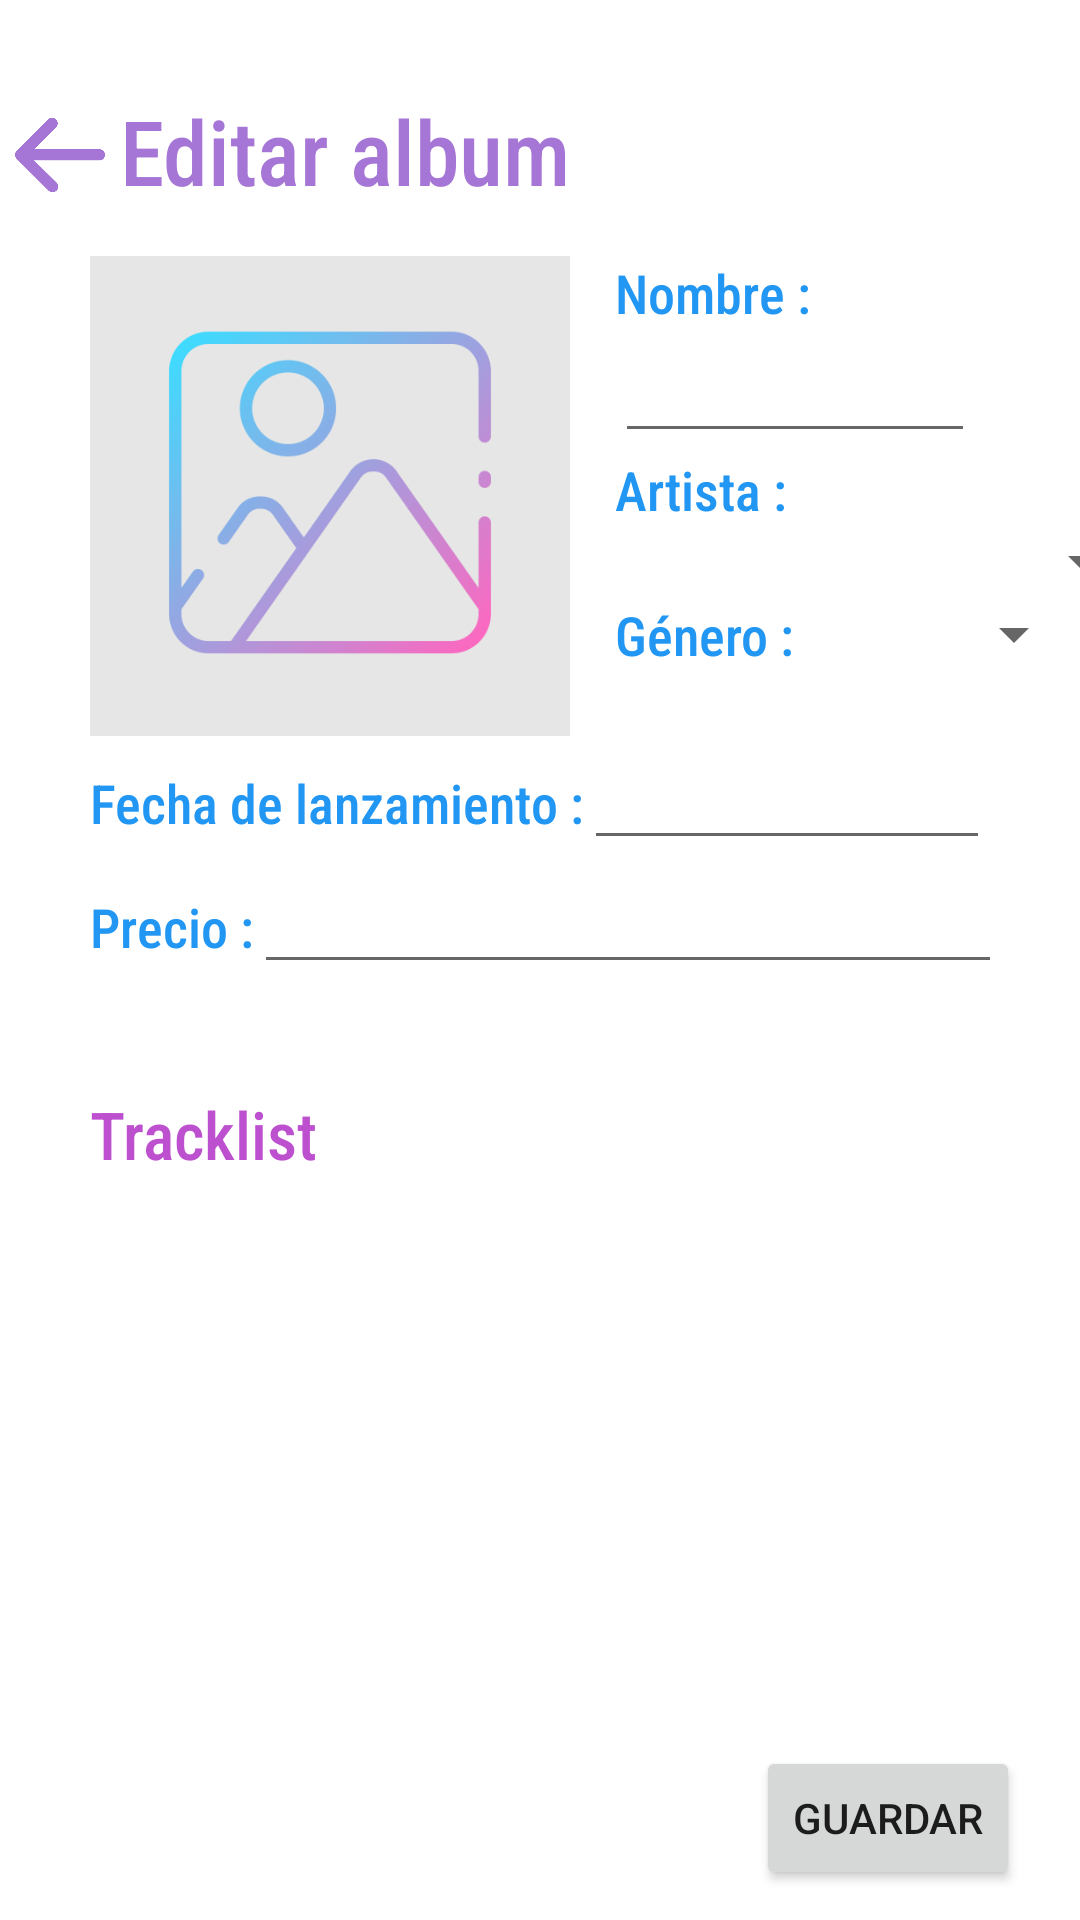

Icon click points for this 1080×1920 phone screenshot, format point (x, y):
flecha: point (60, 155)
imgdefecto: point (330, 492)
